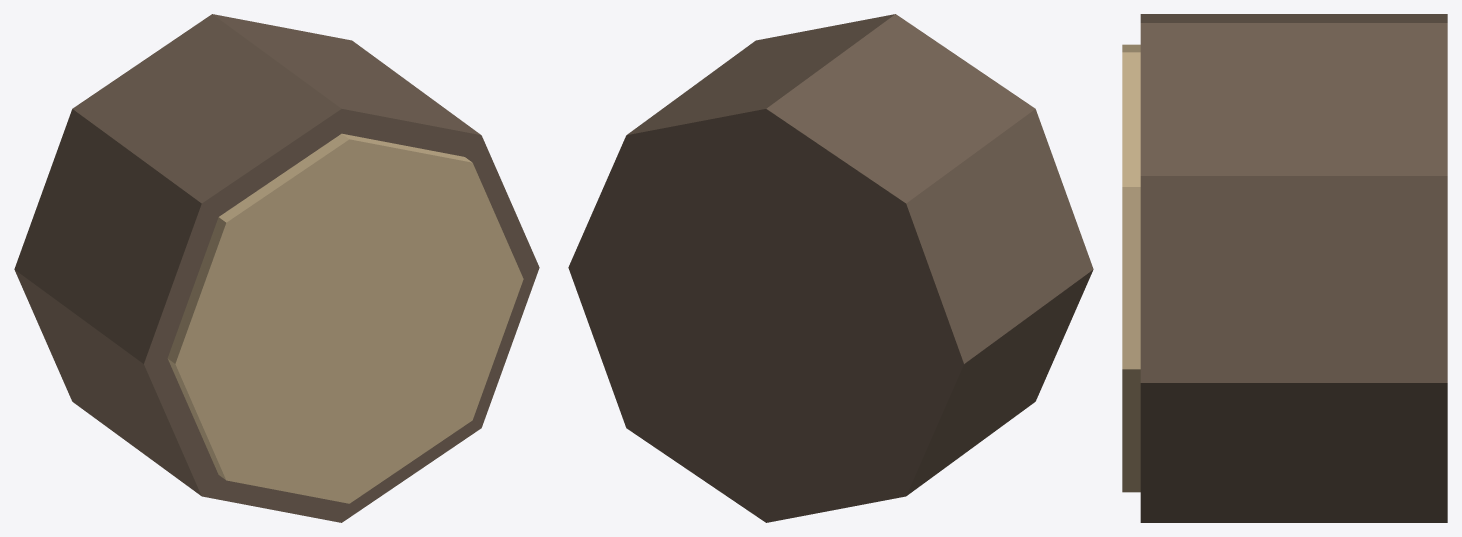
Rendered from tree_stump.glb.
3 views of the same model, side by side, from view 1: azimuth 30°, elevation 25°; view 2: azimuth 150°, elevation 25°; view 3: azimuth 270°, elevation 25° (orthographic). The views are drawn at different scales.
Visible parts, largest first — view 1: geometry_0, geometry_1; view 2: geometry_0; view 3: geometry_0, geometry_1.
Boxes of the visible parts, x1,y1,x2,y2 form: geometry_0: (14,14,539,522); geometry_1: (167,133,523,503); geometry_0: (568,14,1093,522); geometry_0: (1140,14,1447,522); geometry_1: (1122,44,1140,492).
Size of the model in its own units: 0.6 by 0.6 by 0.3604.
